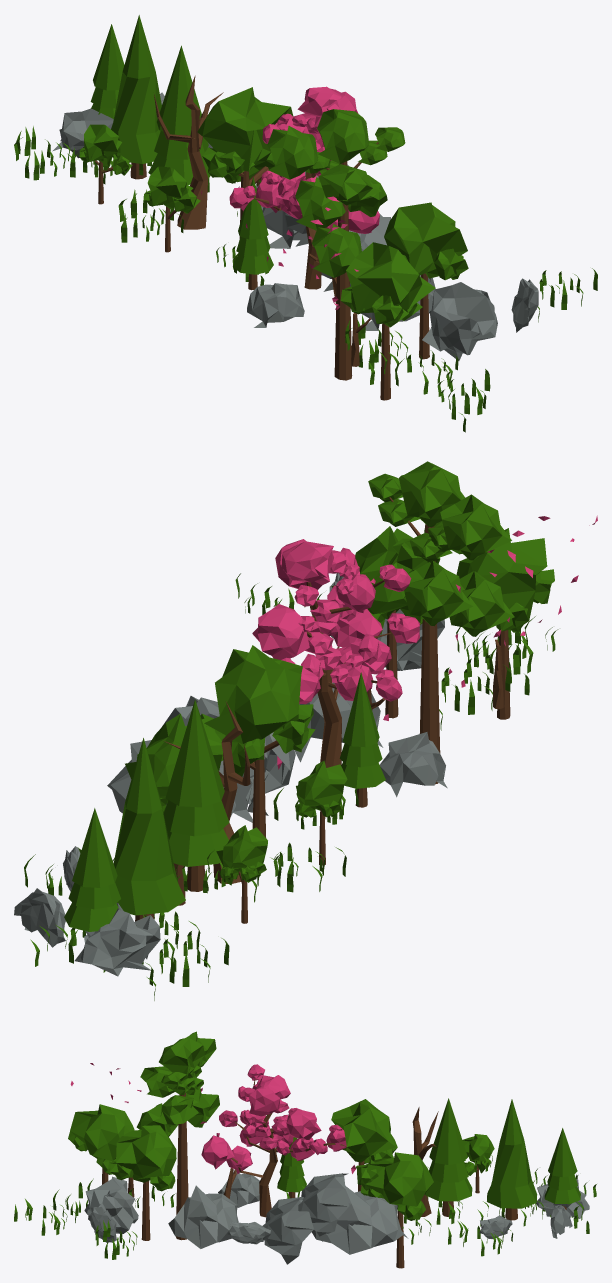
The model's file is treesAndRocks.fbx.
3 renders of one model, top to bottom at view 1: azimuth 30°, elevation 25°; view 2: azimuth 150°, elevation 25°; view 3: azimuth 270°, elevation 25°, orthographic. The views are drawn at different scales.
Parts seen in each view (by area): view 1: Окружность.014, Икосфера, Окружность, Окружность.009, Окружность.011, Окружность.010, Окружность.023, Окружность.006, Окружность.016, Окружность.004, Окружность.024, Окружность.003 (+7 smaller); view 2: Окружность, Окружность.014, Икосфера, Окружность.011, Окружность.023, Окружность.006, Окружность.009, Окружность.003, Окружность.004, Окружность.010, Окружность.022, Окружность.024 (+6 smaller); view 3: Икосфера, Окружность, Окружность.014, Окружность.010, Окружность.022, Окружность.023, Окружность.011, Окружность.006, Окружность.009, Окружность.003, Окружность.019, Окружность.004 (+4 smaller).
Boxes of the visible parts, x1,y1,x2,y2 form: Окружность.014: (267,109,405,380); Икосфера: (52,92,538,360); Окружность: (201,86,379,310); Окружность.009: (340,242,435,400); Окружность.011: (197,87,293,238); Окружность.010: (384,202,468,359); Окружность.023: (111,15,161,179); Окружность.006: (148,45,210,184); Окружность.016: (154,75,223,229); Окружность.004: (233,177,273,290); Окружность.024: (143,166,200,252); Окружность.003: (90,24,124,118); Окружность: (252,515,597,769); Окружность.014: (368,461,514,784); Икосфера: (14,573,447,976); Окружность.011: (200,645,315,837); Окружность.023: (113,738,185,921); Окружность.006: (163,699,229,891); Окружность.009: (456,528,554,719); Окружность.003: (64,808,120,931); Окружность.004: (339,672,385,807); Окружность.010: (331,526,440,718); Окружность.022: (125,713,222,905); Окружность.024: (295,760,347,865); Икосфера: (84,1170,589,1264); Окружность: (70,1063,355,1217); Окружность.014: (136,1031,219,1240); Окружность.010: (110,1125,176,1240); Окружность.022: (360,1152,433,1268); Окружность.023: (487,1099,537,1220); Окружность.011: (331,1099,395,1191); Окружность.006: (425,1098,472,1216); Окружность.009: (68,1104,134,1184); Окружность.003: (544,1128,580,1209); Окружность.019: (462,1134,494,1193); Окружность.004: (277,1137,306,1198).
Bounding box in the file's own units: 485 × 444 × 1150.
